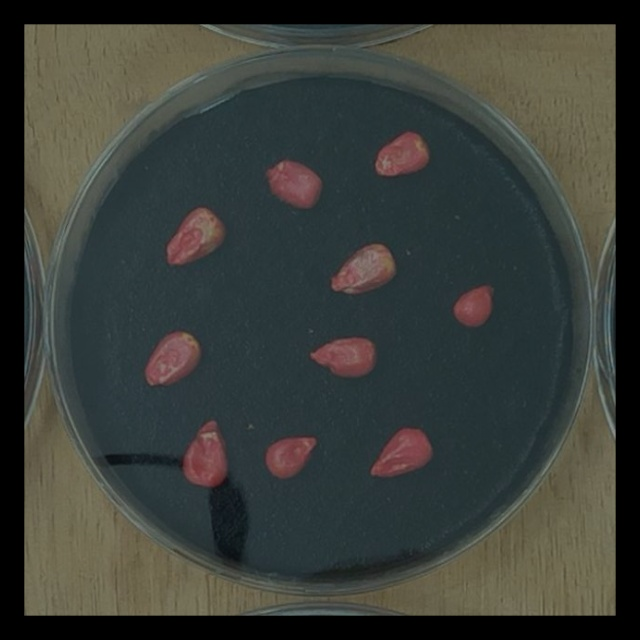Zea mays: (159, 200, 233, 273), (323, 235, 403, 302), (138, 323, 208, 394), (176, 411, 235, 492), (302, 327, 381, 386), (364, 421, 440, 482), (259, 154, 329, 217), (368, 125, 436, 184), (261, 428, 323, 484), (446, 279, 500, 334)
